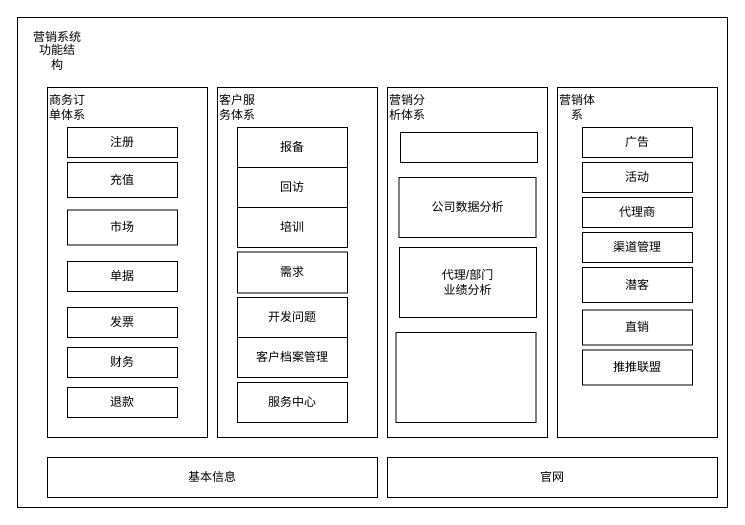
Some shapes in this 745 by 525 pixel diagram are drawn without their labels. The shapes that lost their labels are listed below. From the top down, each one's box as (x1, y1, x2, y2) in pixels, then its label:
(400, 132, 538, 162): 营销单据
(395, 332, 536, 422): 总部数据分析
